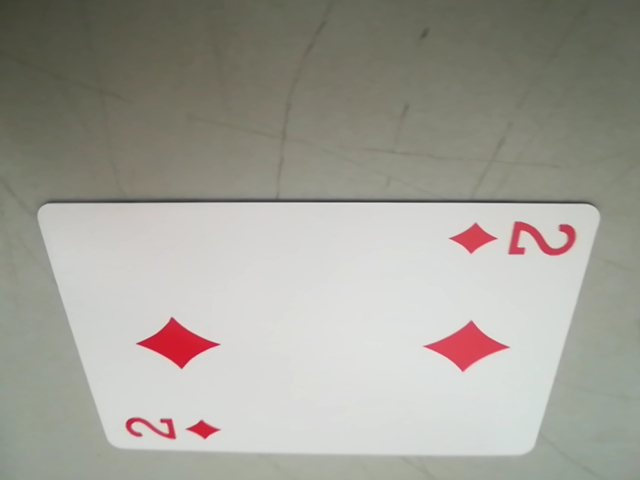fk 2: (447, 216, 582, 265), (117, 406, 224, 450)
